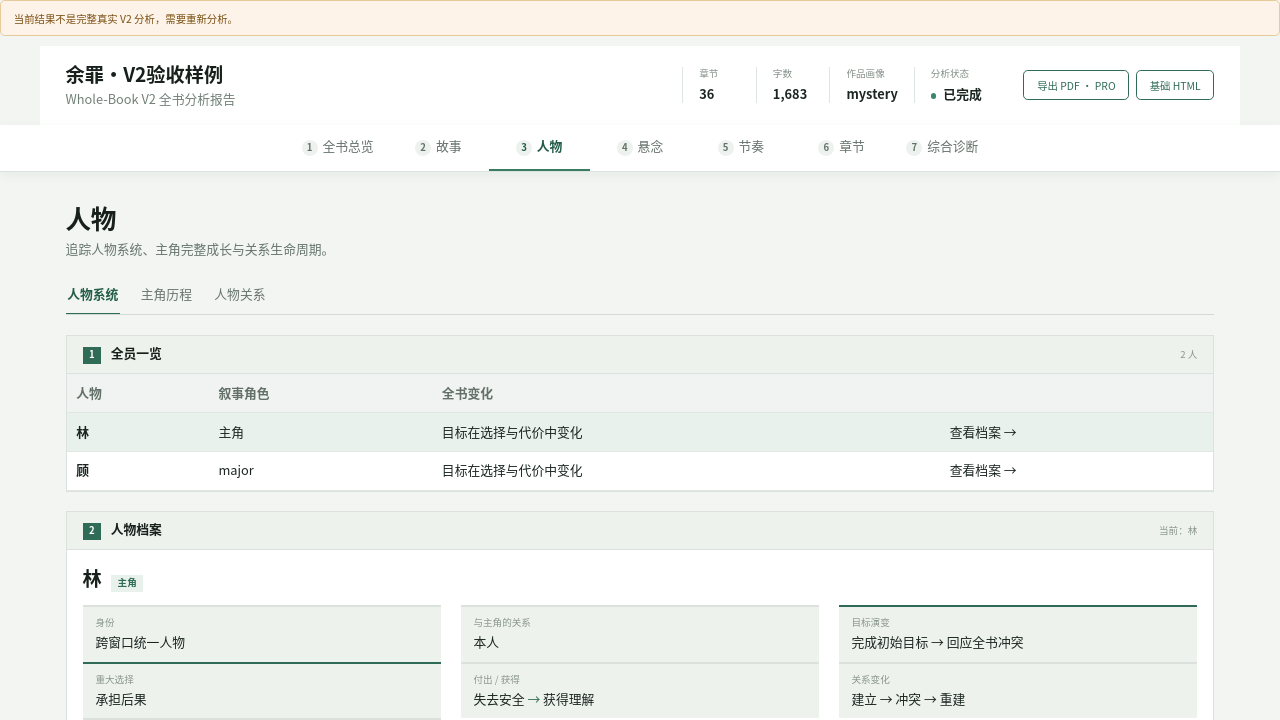
WholeBookV2ReportView › shows protagonist arc cost/gain in characters module
Step 1. Click the button "主角历程" → (166, 294), box [139,275,194,314]
(page scrolled)
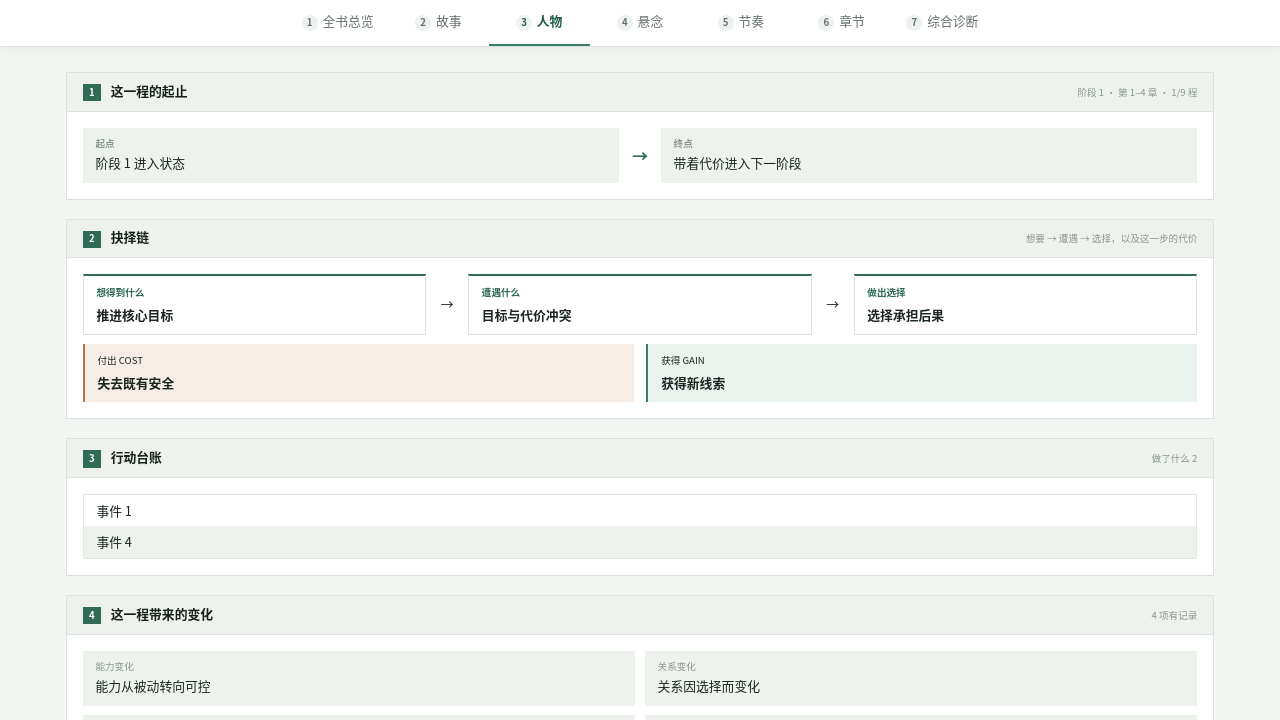
Now the text "付出 COST" is shown, box [97,353,143,367]
Now the text "获得 GAIN" is shown, box [661,353,705,367]
